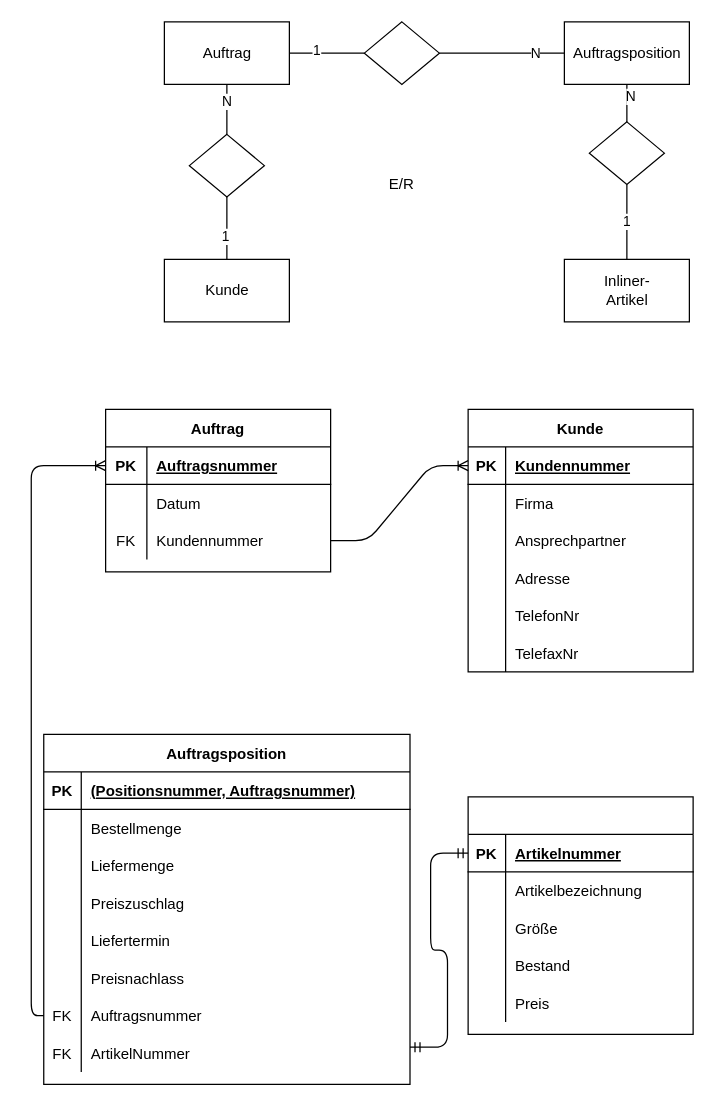
Image size: 715x1106. Some labels were removed from this diagram. Each missing label, with the box of its shape:
Erzeugt: (188, 133, 264, 197)
HAT: (363, 21, 439, 84)
Inliner-Artikel: (467, 796, 693, 1034)
VON: (588, 121, 664, 184)
